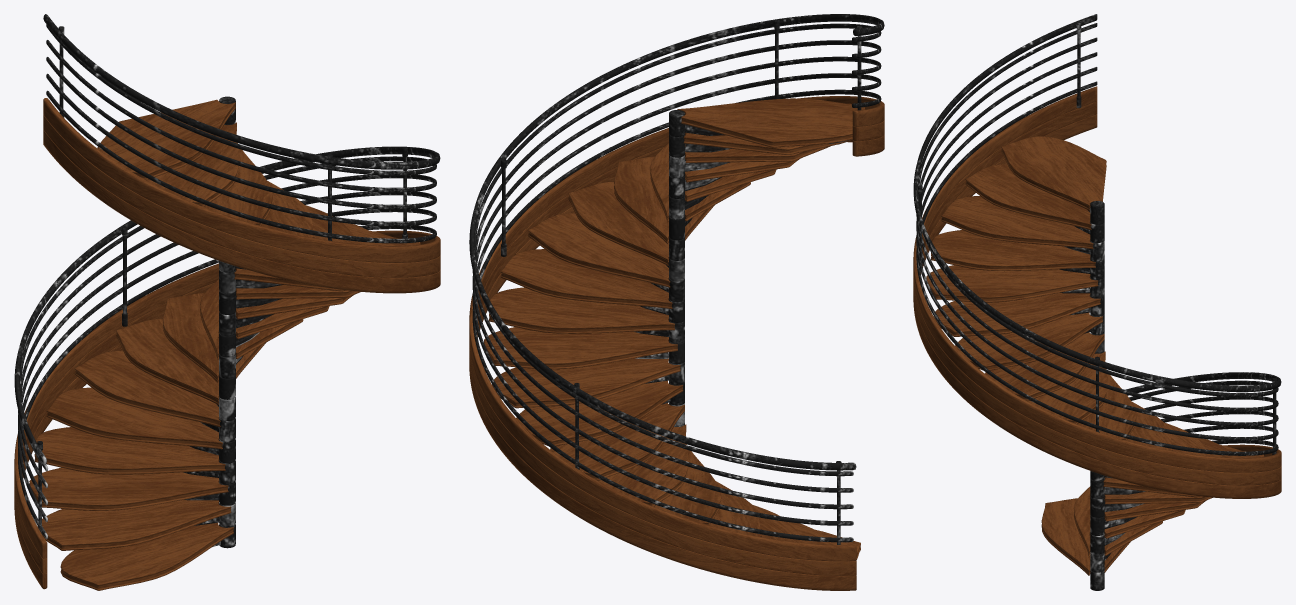
Rendered from Stairs_Spiral.glb.
The picture shows the model from 3 angles, left to right: view 1: azimuth 30°, elevation 25°; view 2: azimuth 150°, elevation 25°; view 3: azimuth 270°, elevation 25°; orthographic projection. The views are drawn at different scales.
Visible parts, largest first — view 1: stairs.004; view 2: stairs.004; view 3: stairs.004.
Boxes of the visible parts, left/top/right/bottom form: stairs.004: left=14, top=14, right=440, bottom=590; stairs.004: left=469, top=14, right=884, bottom=590; stairs.004: left=913, top=14, right=1281, bottom=590.
Bounding box in the file's own units: 2.74 × 4.07 × 2.73.
3 materials, 3 textured.
